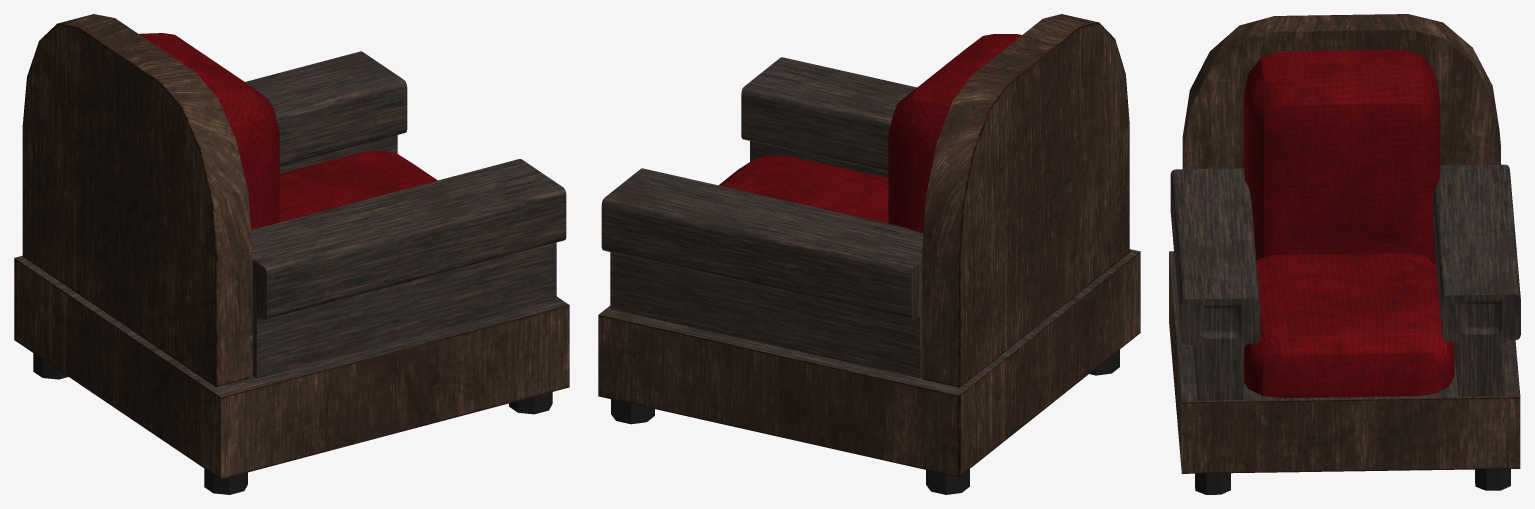
The model's file is Couch Chair.fbx.
3 renders of one model, left to right at view 1: azimuth 30°, elevation 25°; view 2: azimuth 150°, elevation 25°; view 3: azimuth 270°, elevation 25°, orthographic. The views are drawn at different scales.
Parts seen in each view (by area): view 1: Chair1; view 2: Chair1; view 3: Chair1.
Part boxes in pixels (x1,y1,x2,y2): Chair1: [14, 14, 569, 494]; Chair1: [598, 14, 1140, 494]; Chair1: [1169, 14, 1520, 494].
Bounding box in the file's own units: 154 × 151 × 147.
